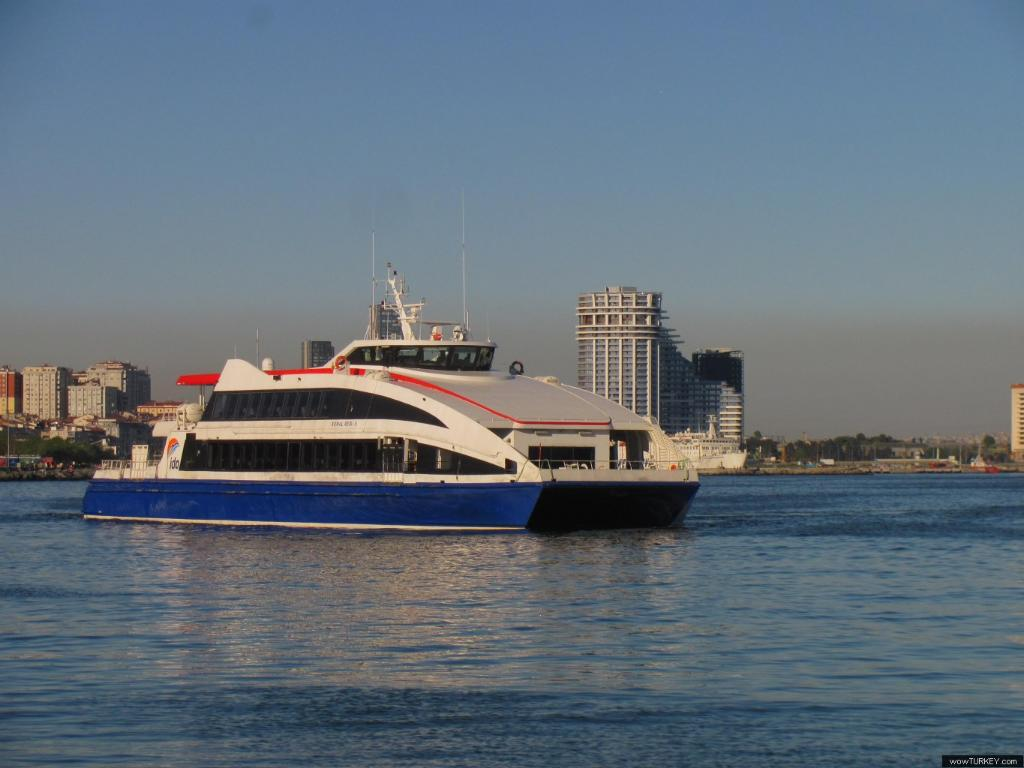PassengerShip: (85, 258, 703, 538)
